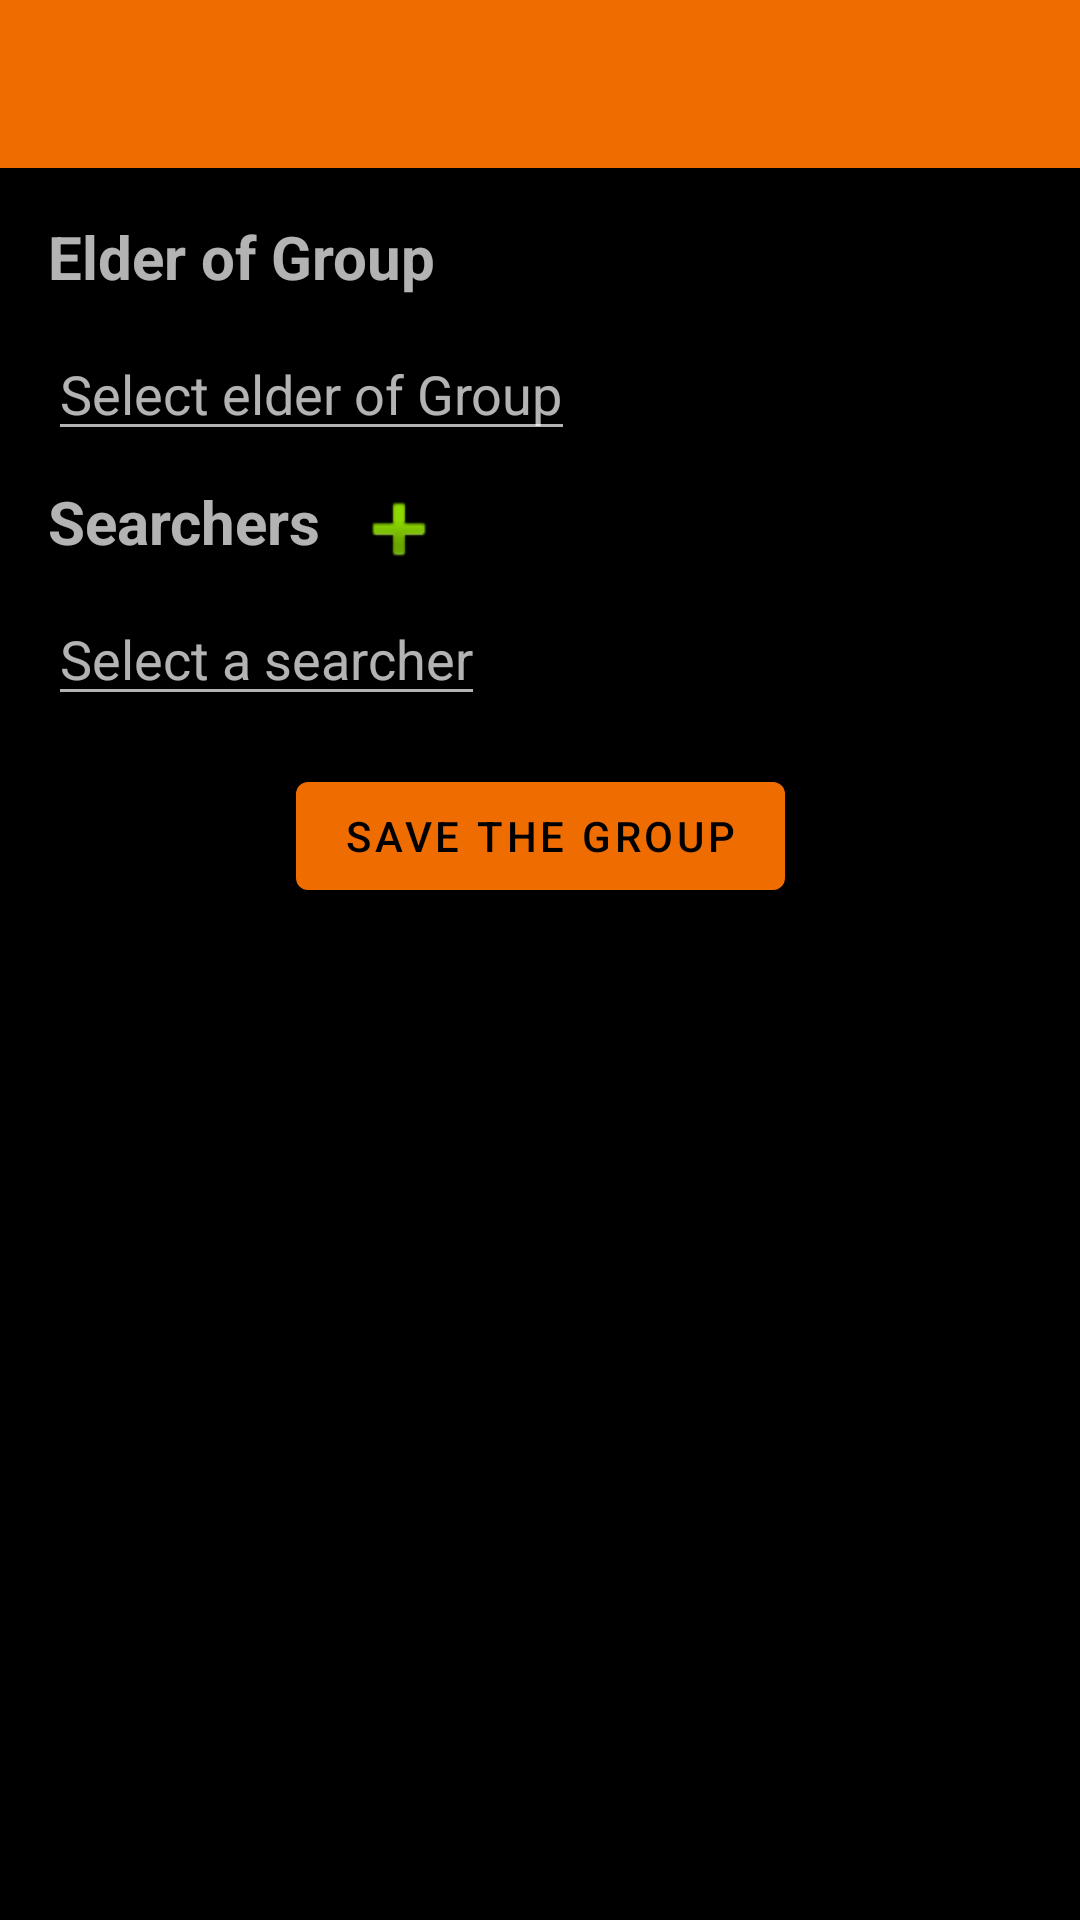

Icon click points for this 1080x1920 phone screenshot, format point (x, y):
add: point (399, 529)
